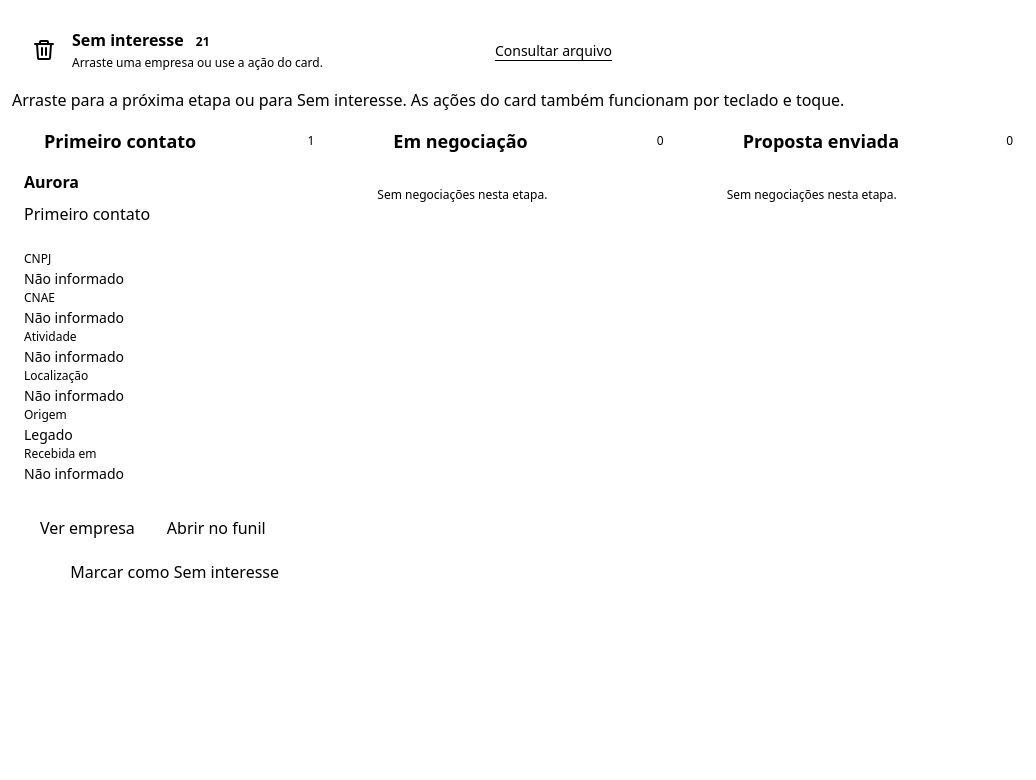
resposta confirmada atual retira card e devolve foco ao status
Click the button "Marcar como Sem interesse" at (175, 572), box [24,552,325,592]
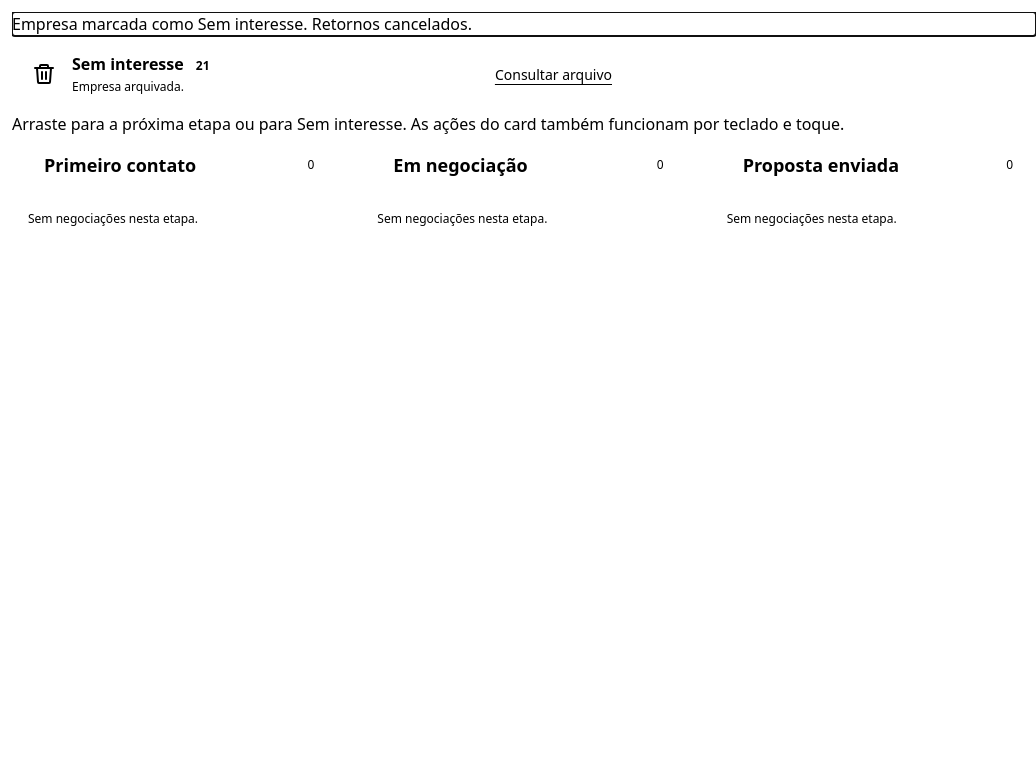
Expected: the text "Aurora" is gone
